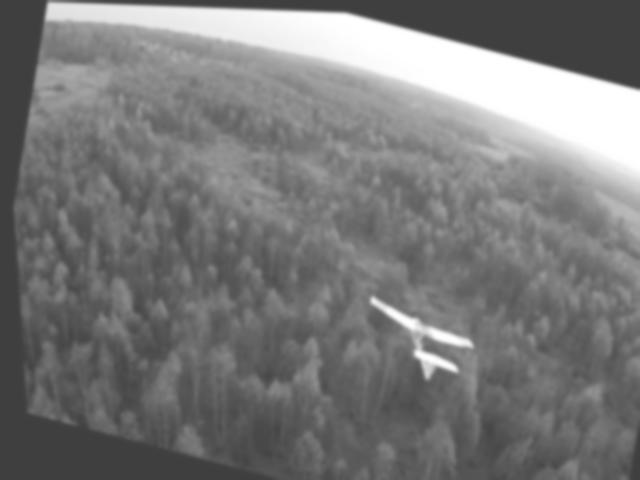hedef: (348, 286, 478, 393)
